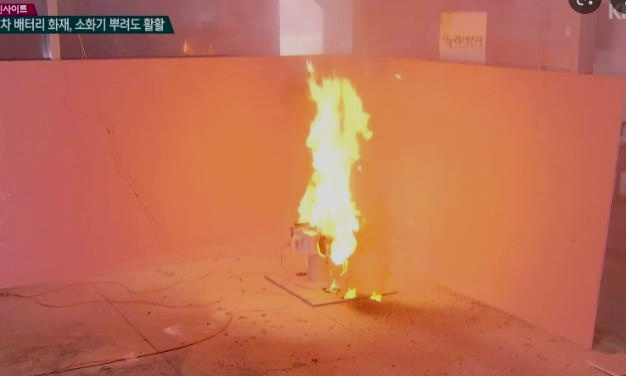fire: (278, 55, 388, 292)
